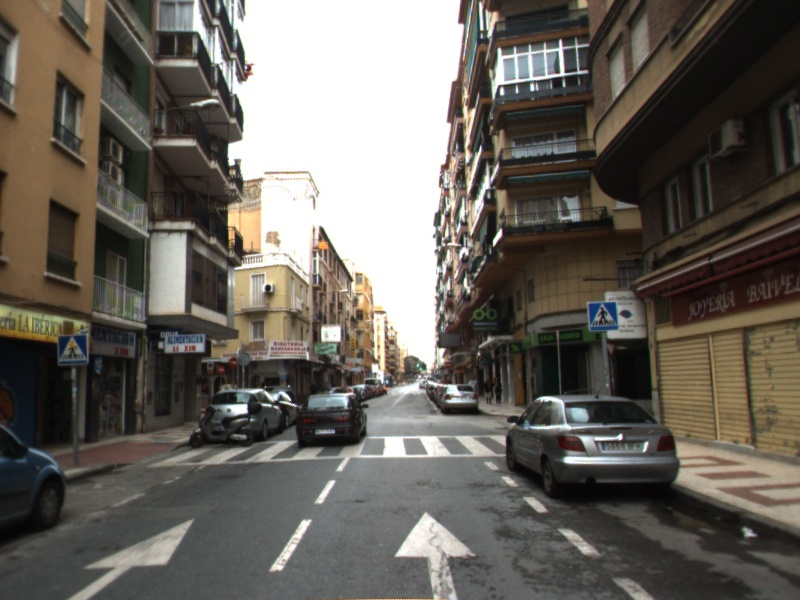STRAIGHT: (64, 514, 199, 600), (391, 507, 479, 600)
